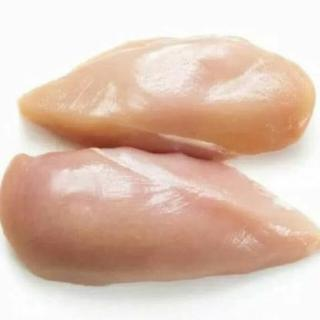Ayam: (1, 148, 320, 284), (22, 36, 319, 154)
